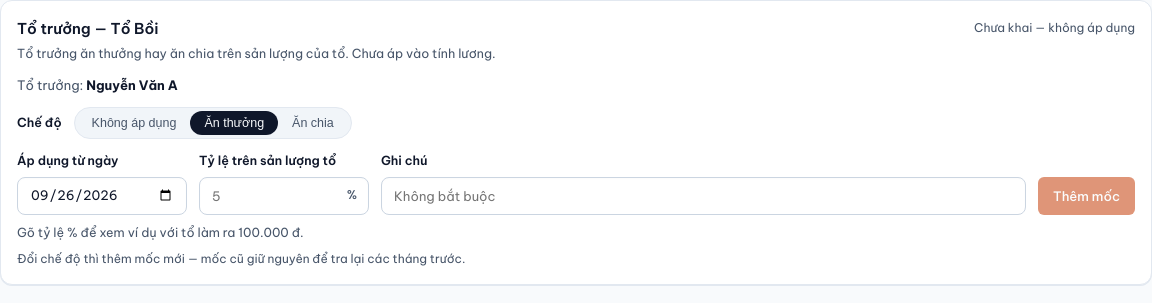
ToTruongEditor › ăn chia 100% bị nói ngay dưới ô và khoá nút lưu
The width and height of the screenshot is (1152, 303).
Expected: the text "Chưa khai — không áp dụng" is shown, [974,19,1135,38]
Click the radio button labelled "Ăn chia": [313, 123] box [278,111,348,135]
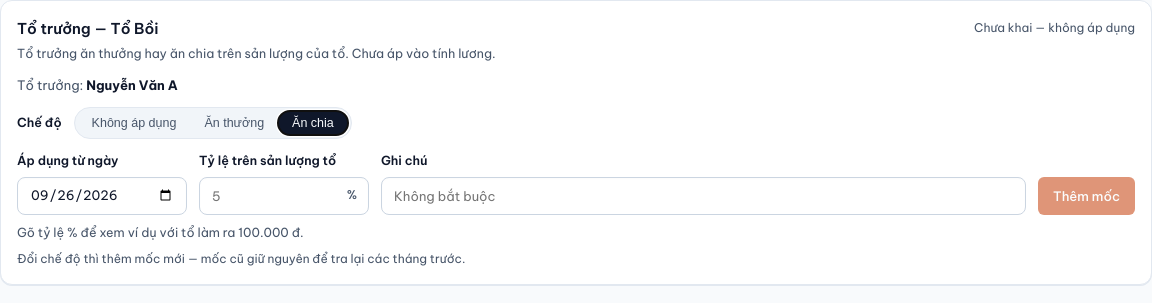
In the number field with placeholder "5": [284, 196] box [199,176,369,214], type "100"
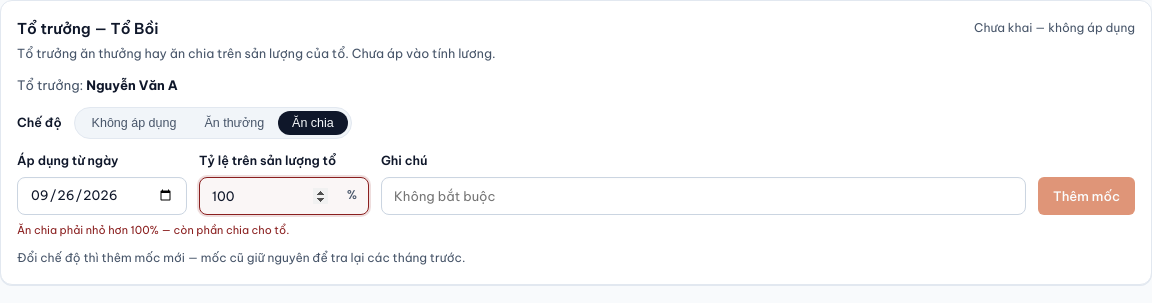
Expected: the button "Thêm mốc" is disabled, [1038,176,1135,214]
Result: the text "Ăn chia phải nhỏ hơn 100% — còn phần chia cho tổ." is shown at [17,222,289,236]
